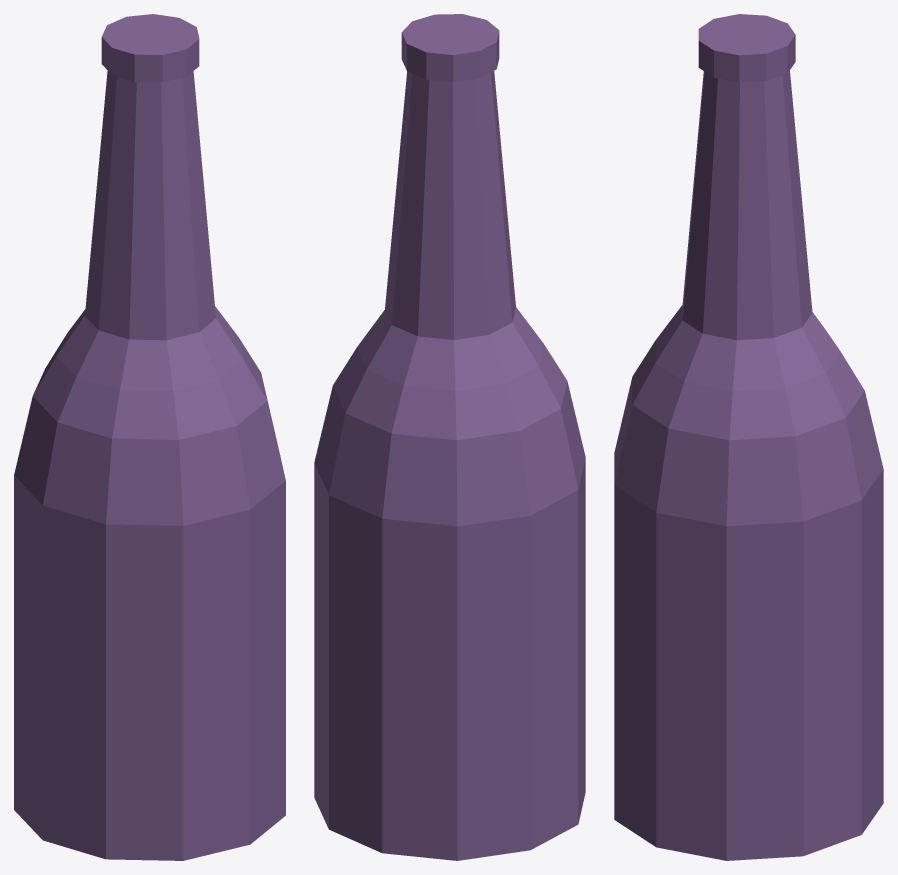
The model's file is tavern-bottle-purple.glb.
The picture shows the model from 3 angles, left to right: view 1: azimuth 30°, elevation 25°; view 2: azimuth 150°, elevation 25°; view 3: azimuth 270°, elevation 25°; orthographic projection.
Parts seen in each view (by area): view 1: Object_2; view 2: Object_2; view 3: Object_2.
Boxes of the visible parts, x1,y1,x2,y2 form: Object_2: (14,14,285,860); Object_2: (314,14,585,860); Object_2: (614,14,883,860).
Size of the model in its own units: 1.98 by 6.18 by 1.96.
